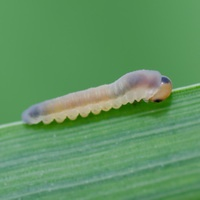insect: (22, 70, 171, 123)
